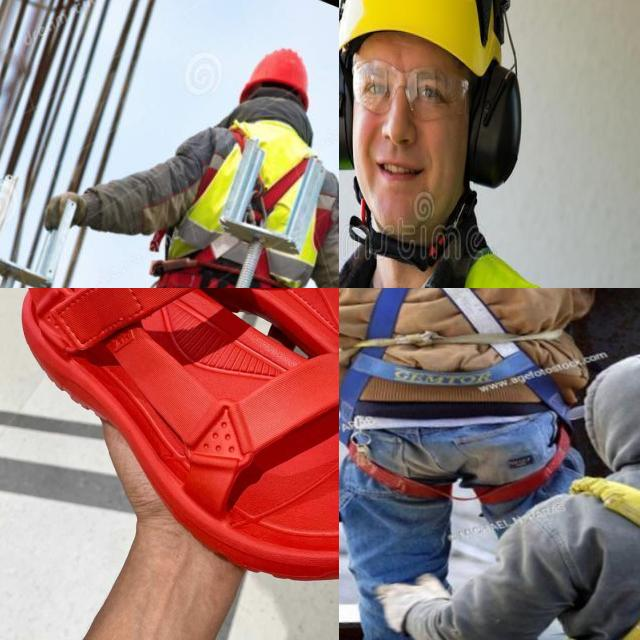Harness: (339, 288, 571, 504), (165, 126, 308, 288)
Sandals: (11, 288, 339, 586)
face_nomask: (344, 35, 481, 222)
glasses: (348, 56, 474, 125)
head_helmet: (339, 0, 524, 79)
person: (339, 0, 640, 288)
